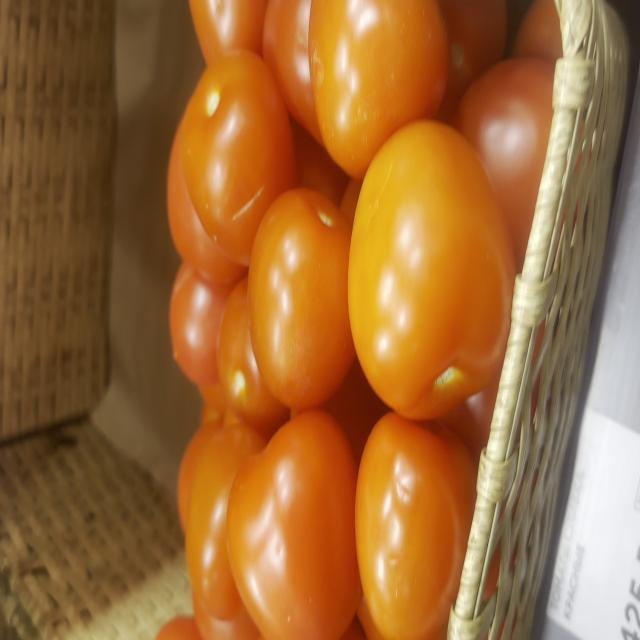tomato: (348, 119, 516, 420), (228, 410, 361, 638), (355, 412, 476, 638), (309, 0, 449, 179), (182, 49, 296, 267), (248, 188, 355, 409), (452, 57, 555, 270), (186, 424, 265, 640), (168, 117, 246, 285), (218, 278, 290, 436), (262, 0, 322, 146), (170, 262, 231, 386), (189, 0, 268, 66)
